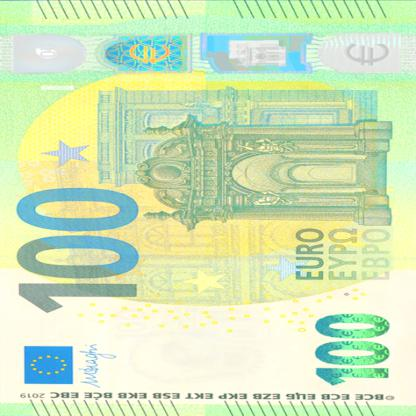euro_banknote: (1, 3, 416, 416)
